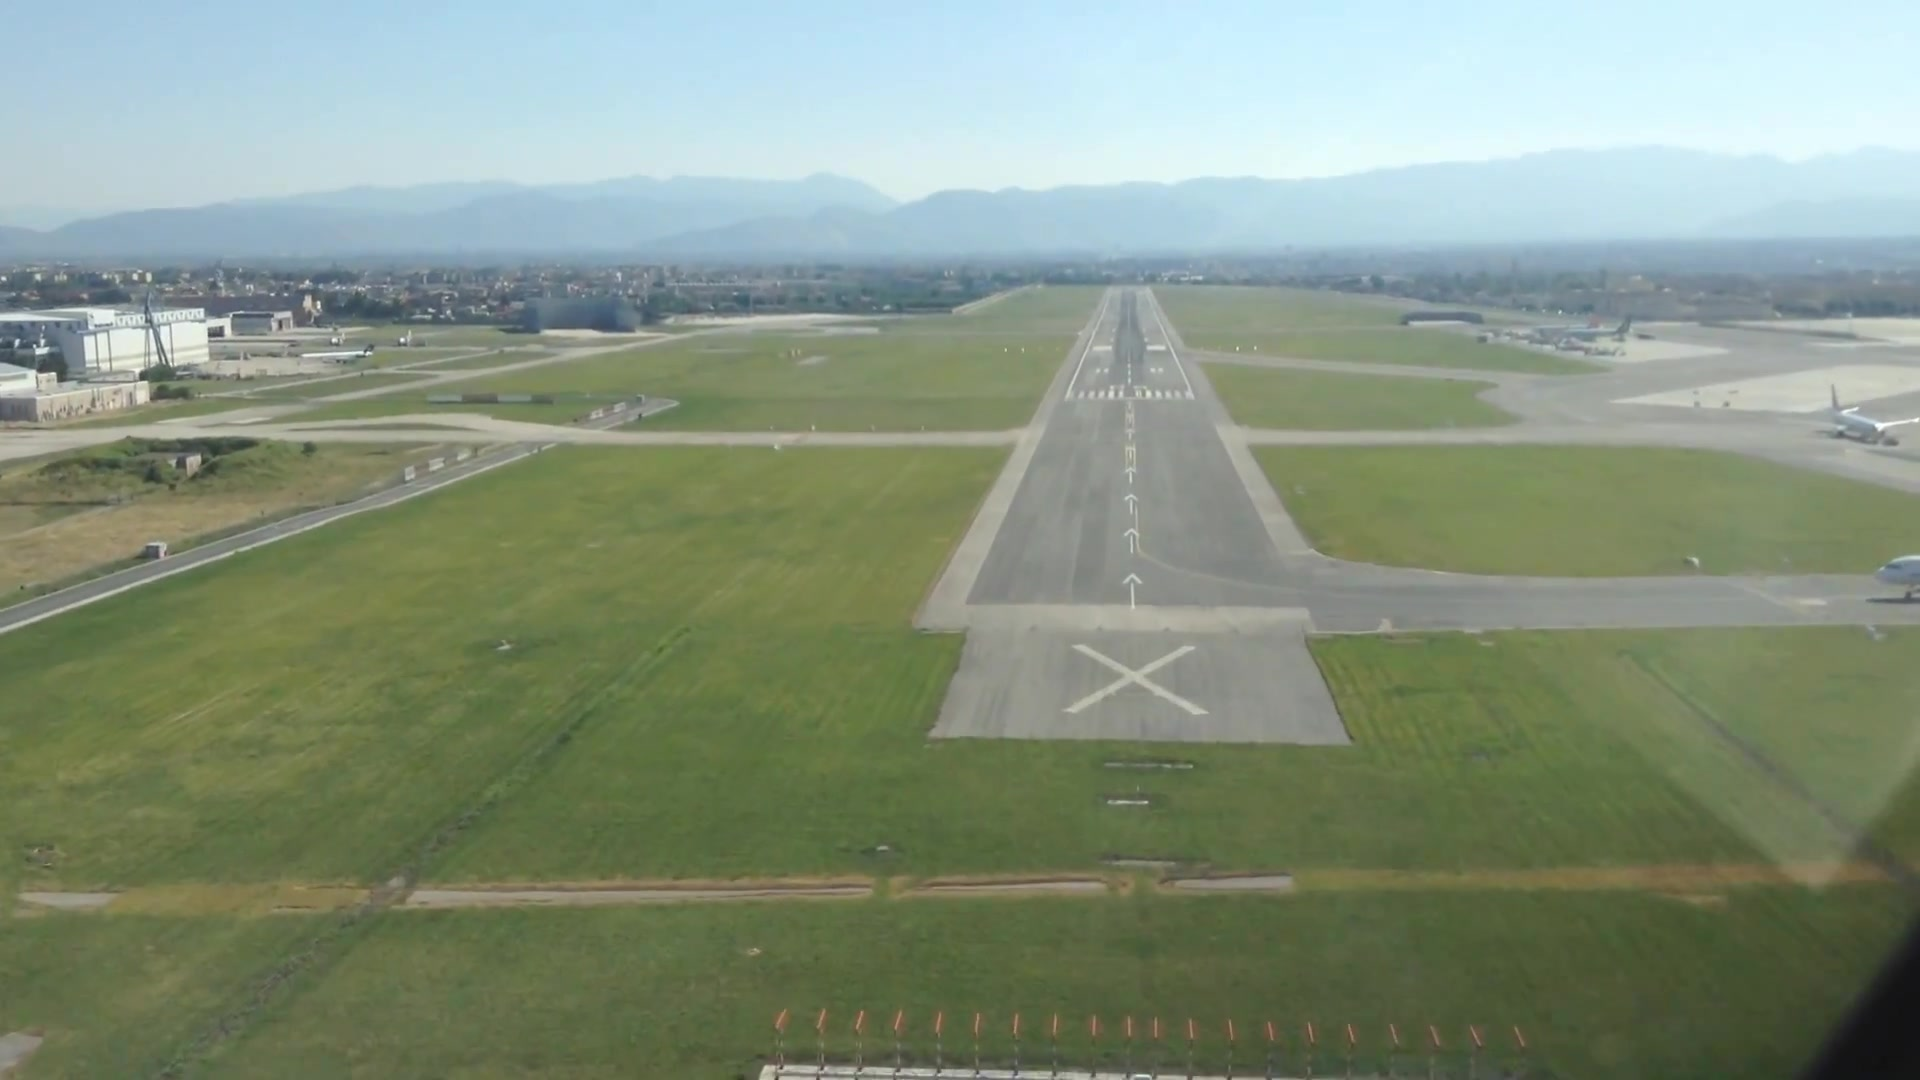entrance: (1065, 382, 1211, 409)
runway: (905, 282, 1335, 642)
